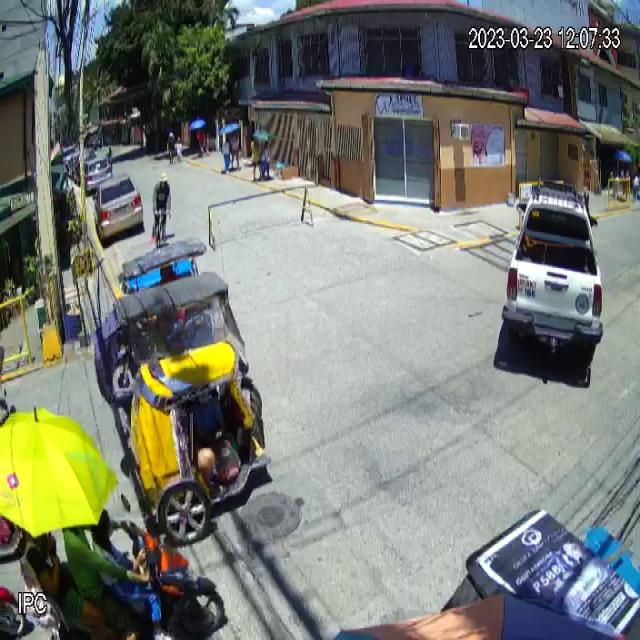Car: (499, 176, 605, 361), (94, 173, 144, 240)
Tricycle: (113, 272, 272, 544)
